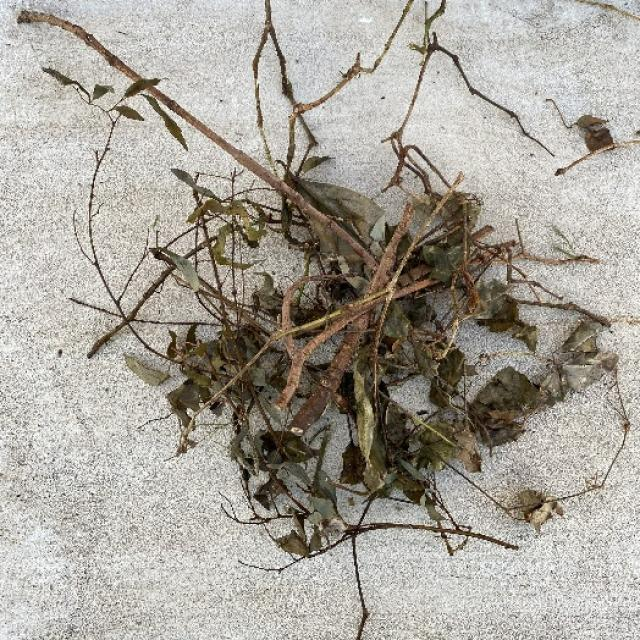organik: (21, 6, 619, 553)
